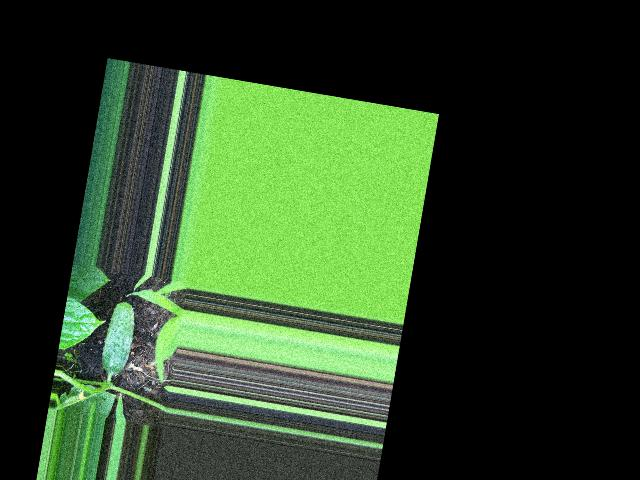cucumber: (99, 298, 139, 376)
